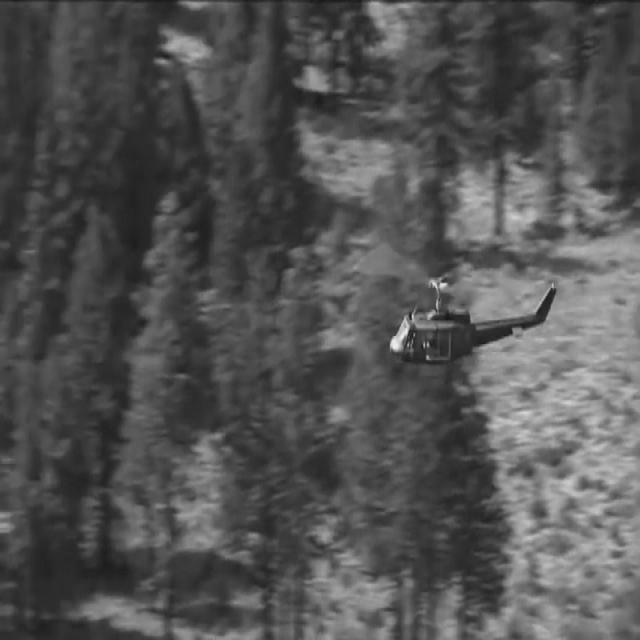helikopter: (348, 258, 596, 402)
